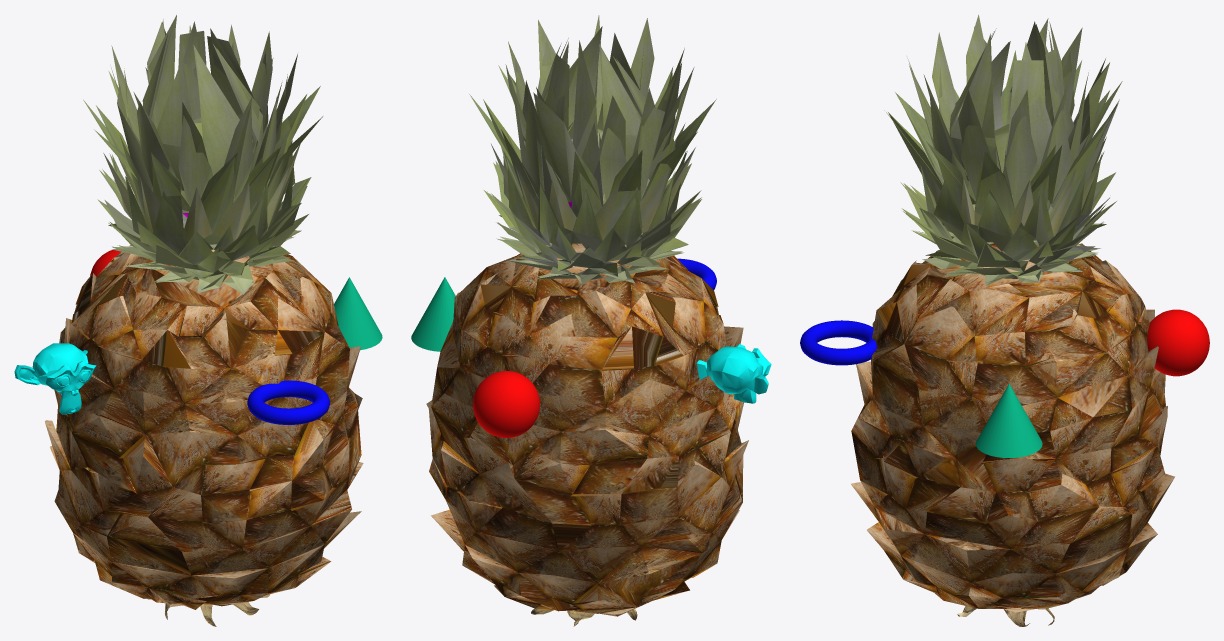
The model's file is importTest_pinapple.glb.
3 renders of one model, left to right at view 1: azimuth 30°, elevation 25°; view 2: azimuth 150°, elevation 25°; view 3: azimuth 270°, elevation 25°, orthographic.
Parts seen in each view (by area): view 1: pinapple_lod, Suzanne, Torus, Cone; view 2: pinapple_lod, Sphere, Suzanne, Cone, Torus; view 3: pinapple_lod, Sphere, Cone, Torus.
Part boxes in pixels (left/top/right/bottom): pinapple_lod: left=45, top=15, right=363, bottom=626; Suzanne: left=14, top=343, right=96, bottom=414; Torus: left=247, top=380, right=329, bottom=424; Cone: left=334, top=277, right=382, bottom=350; pinapple_lod: left=426, top=15, right=748, bottom=626; Sphere: left=473, top=371, right=539, bottom=437; Suzanne: left=696, top=344, right=771, bottom=403; Cone: left=411, top=277, right=455, bottom=351; Torus: left=677, top=258, right=716, bottom=289; pinapple_lod: left=851, top=14, right=1174, bottom=626; Sphere: left=1147, top=309, right=1209, bottom=376; Cone: left=975, top=383, right=1042, bottom=457; Torus: left=800, top=320, right=876, bottom=365.
Bounding box in the file's own units: 1 × 1.56 × 0.9905.
Materials: 10 (3 with a texture image).
